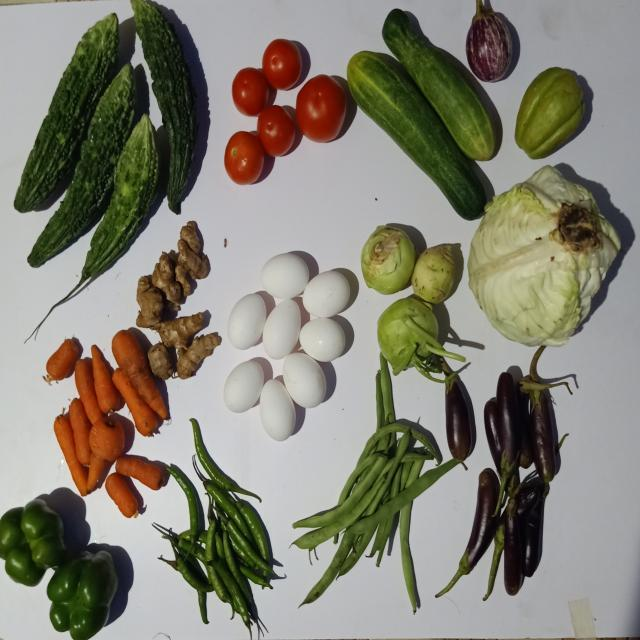Beans: (349, 459, 461, 535), (293, 531, 318, 549)
Bitter Gourd: (27, 63, 135, 267), (13, 12, 118, 212), (76, 113, 158, 287), (130, 0, 196, 213)
Brinjal: (437, 468, 500, 598), (497, 372, 522, 509), (446, 378, 472, 462)
Cabbage: (469, 165, 621, 346)
Capsicum: (46, 551, 117, 640)
Carrot: (111, 329, 168, 419), (53, 415, 87, 496), (90, 345, 118, 413), (74, 359, 103, 424), (45, 339, 77, 381)
Chayote: (516, 66, 585, 158)
Cucumber: (347, 50, 487, 219), (383, 8, 495, 160)
Egg: (283, 352, 326, 408), (262, 299, 301, 359), (259, 379, 296, 441), (260, 252, 309, 298), (303, 270, 350, 317), (227, 293, 266, 349), (223, 360, 264, 413), (299, 317, 346, 362)
Eggplant: (467, 0, 513, 80)
Ginger: (176, 332, 221, 379), (136, 275, 163, 327), (177, 238, 209, 279)
Green Chilly: (189, 418, 261, 502), (166, 466, 198, 542), (236, 502, 269, 562)
Tomato: (296, 74, 346, 141), (224, 130, 264, 184), (262, 38, 302, 89), (257, 104, 295, 156), (232, 66, 269, 115)
Turnip: (378, 297, 465, 375), (361, 225, 416, 294), (412, 244, 455, 303)
